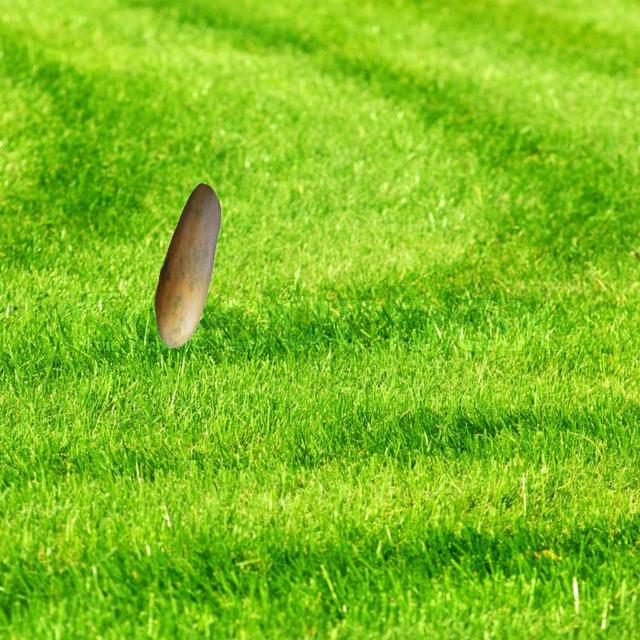Pepaya rippen: (145, 180, 220, 358)
